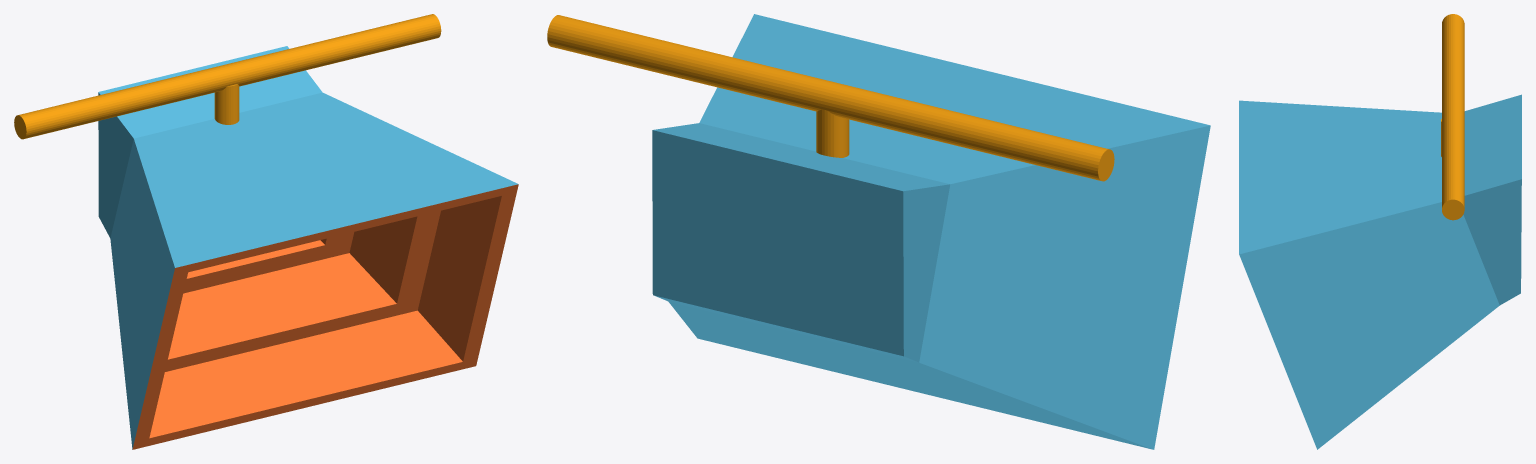
File: vacuum1.fbx
3 views of the same model, side by side, from view 1: azimuth 30°, elevation 25°; view 2: azimuth 150°, elevation 25°; view 3: azimuth 270°, elevation 25° (orthographic). The views are drawn at different scales.
Parts seen in each view (by area): view 1: Usisivac1; view 2: Usisivac1; view 3: Usisivac1.
Part boxes in pixels (x1,y1,x2,y2): Usisivac1: (14, 14, 518, 449); Usisivac1: (547, 14, 1210, 449); Usisivac1: (1239, 14, 1521, 449).
Size of the model in its own units: 185 by 123 by 119.
